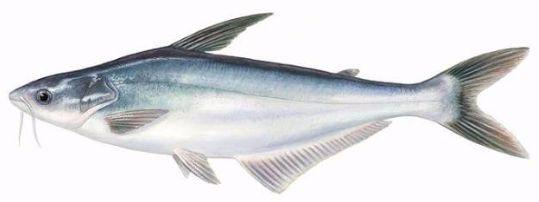Pangasius: (10, 13, 531, 194)
